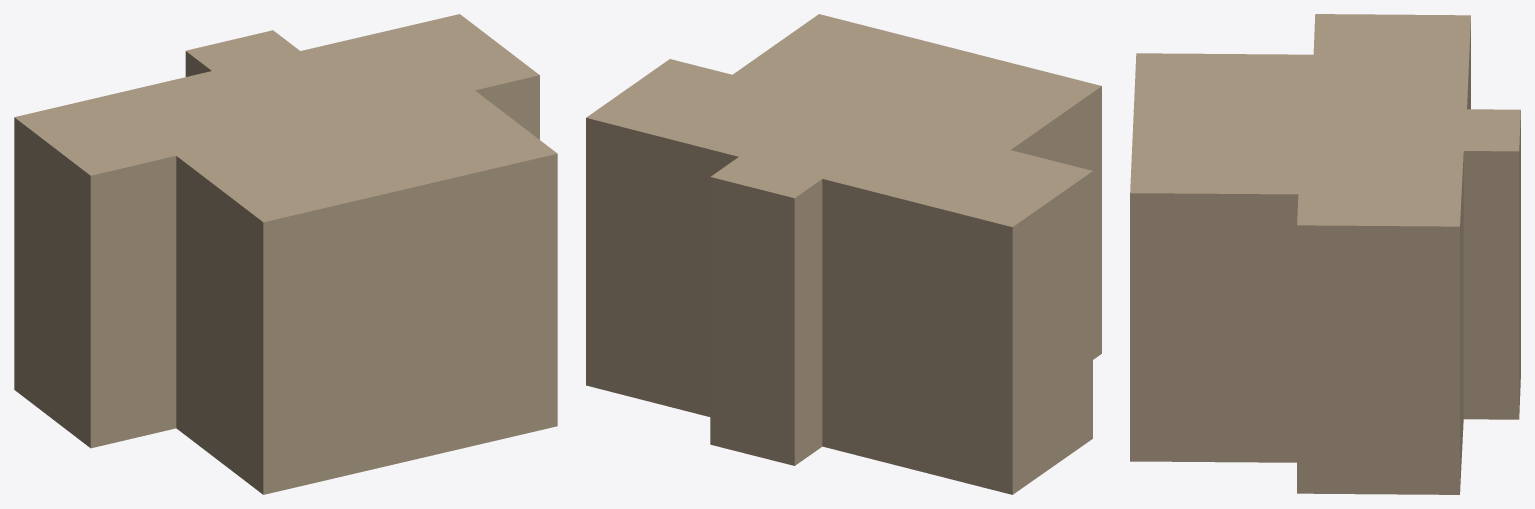
The model's file is bld_106796648.dae.
3 renders of one model, left to right at view 1: azimuth 30°, elevation 25°; view 2: azimuth 150°, elevation 25°; view 3: azimuth 270°, elevation 25°, orthographic.
Parts seen in each view (by area): view 1: bld_106796648; view 2: bld_106796648; view 3: bld_106796648.
Part boxes in pixels (x1,y1,x2,y2): bld_106796648: (14,14,557,494); bld_106796648: (586,14,1101,494); bld_106796648: (1130,14,1520,494).
Size of the model in its own units: 13.6 by 10.56 by 8.
